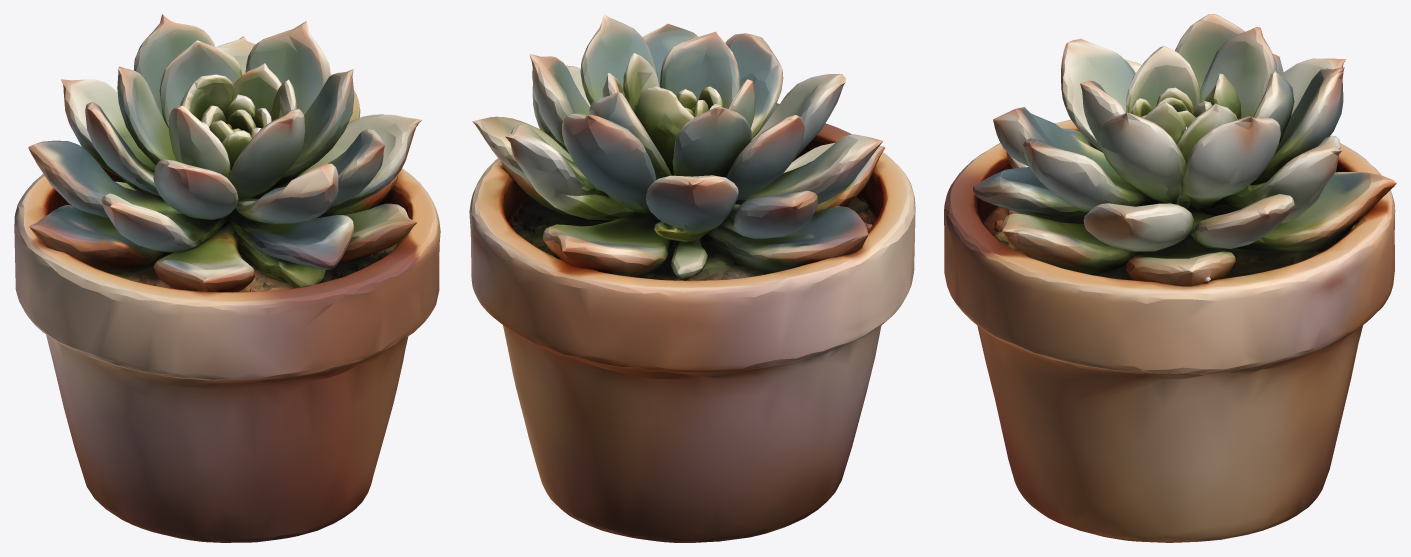
3 views of the same model, side by side, from view 1: azimuth 30°, elevation 25°; view 2: azimuth 150°, elevation 25°; view 3: azimuth 270°, elevation 25° (orthographic). The views are drawn at different scales.
Parts seen in each view (by area): view 1: model; view 2: model; view 3: model.
Boxes of the visible parts, left/top/right/bottom form: model: left=14, top=14, right=440, bottom=542; model: left=469, top=14, right=915, bottom=542; model: left=944, top=14, right=1396, bottom=542.
Size of the model in its own units: 172 by 182 by 175.
Materials: 1 (1 with a texture image).
